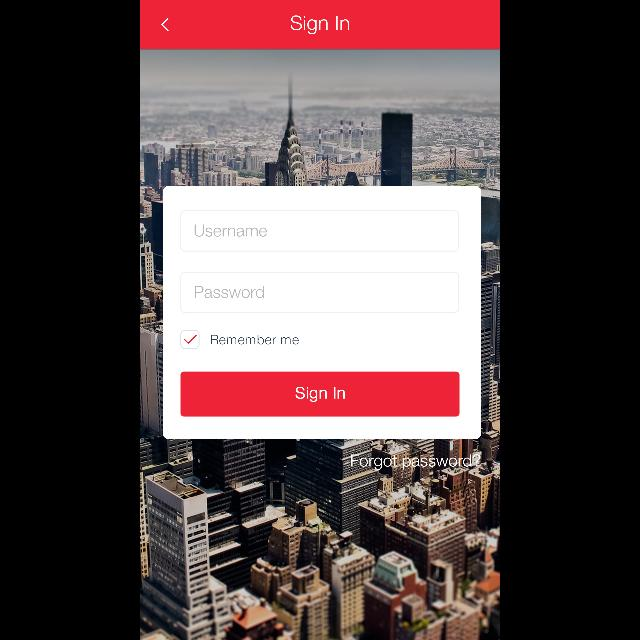backgroundimage: (140, 50, 500, 640)
checkbox: (181, 329, 199, 348)
icon: (161, 18, 169, 32)
input: (180, 210, 460, 252), (180, 272, 460, 312)
text: (352, 454, 481, 470), (290, 16, 350, 34), (211, 335, 299, 345), (195, 225, 268, 237), (195, 286, 265, 298)
textbutton: (180, 372, 460, 416)
